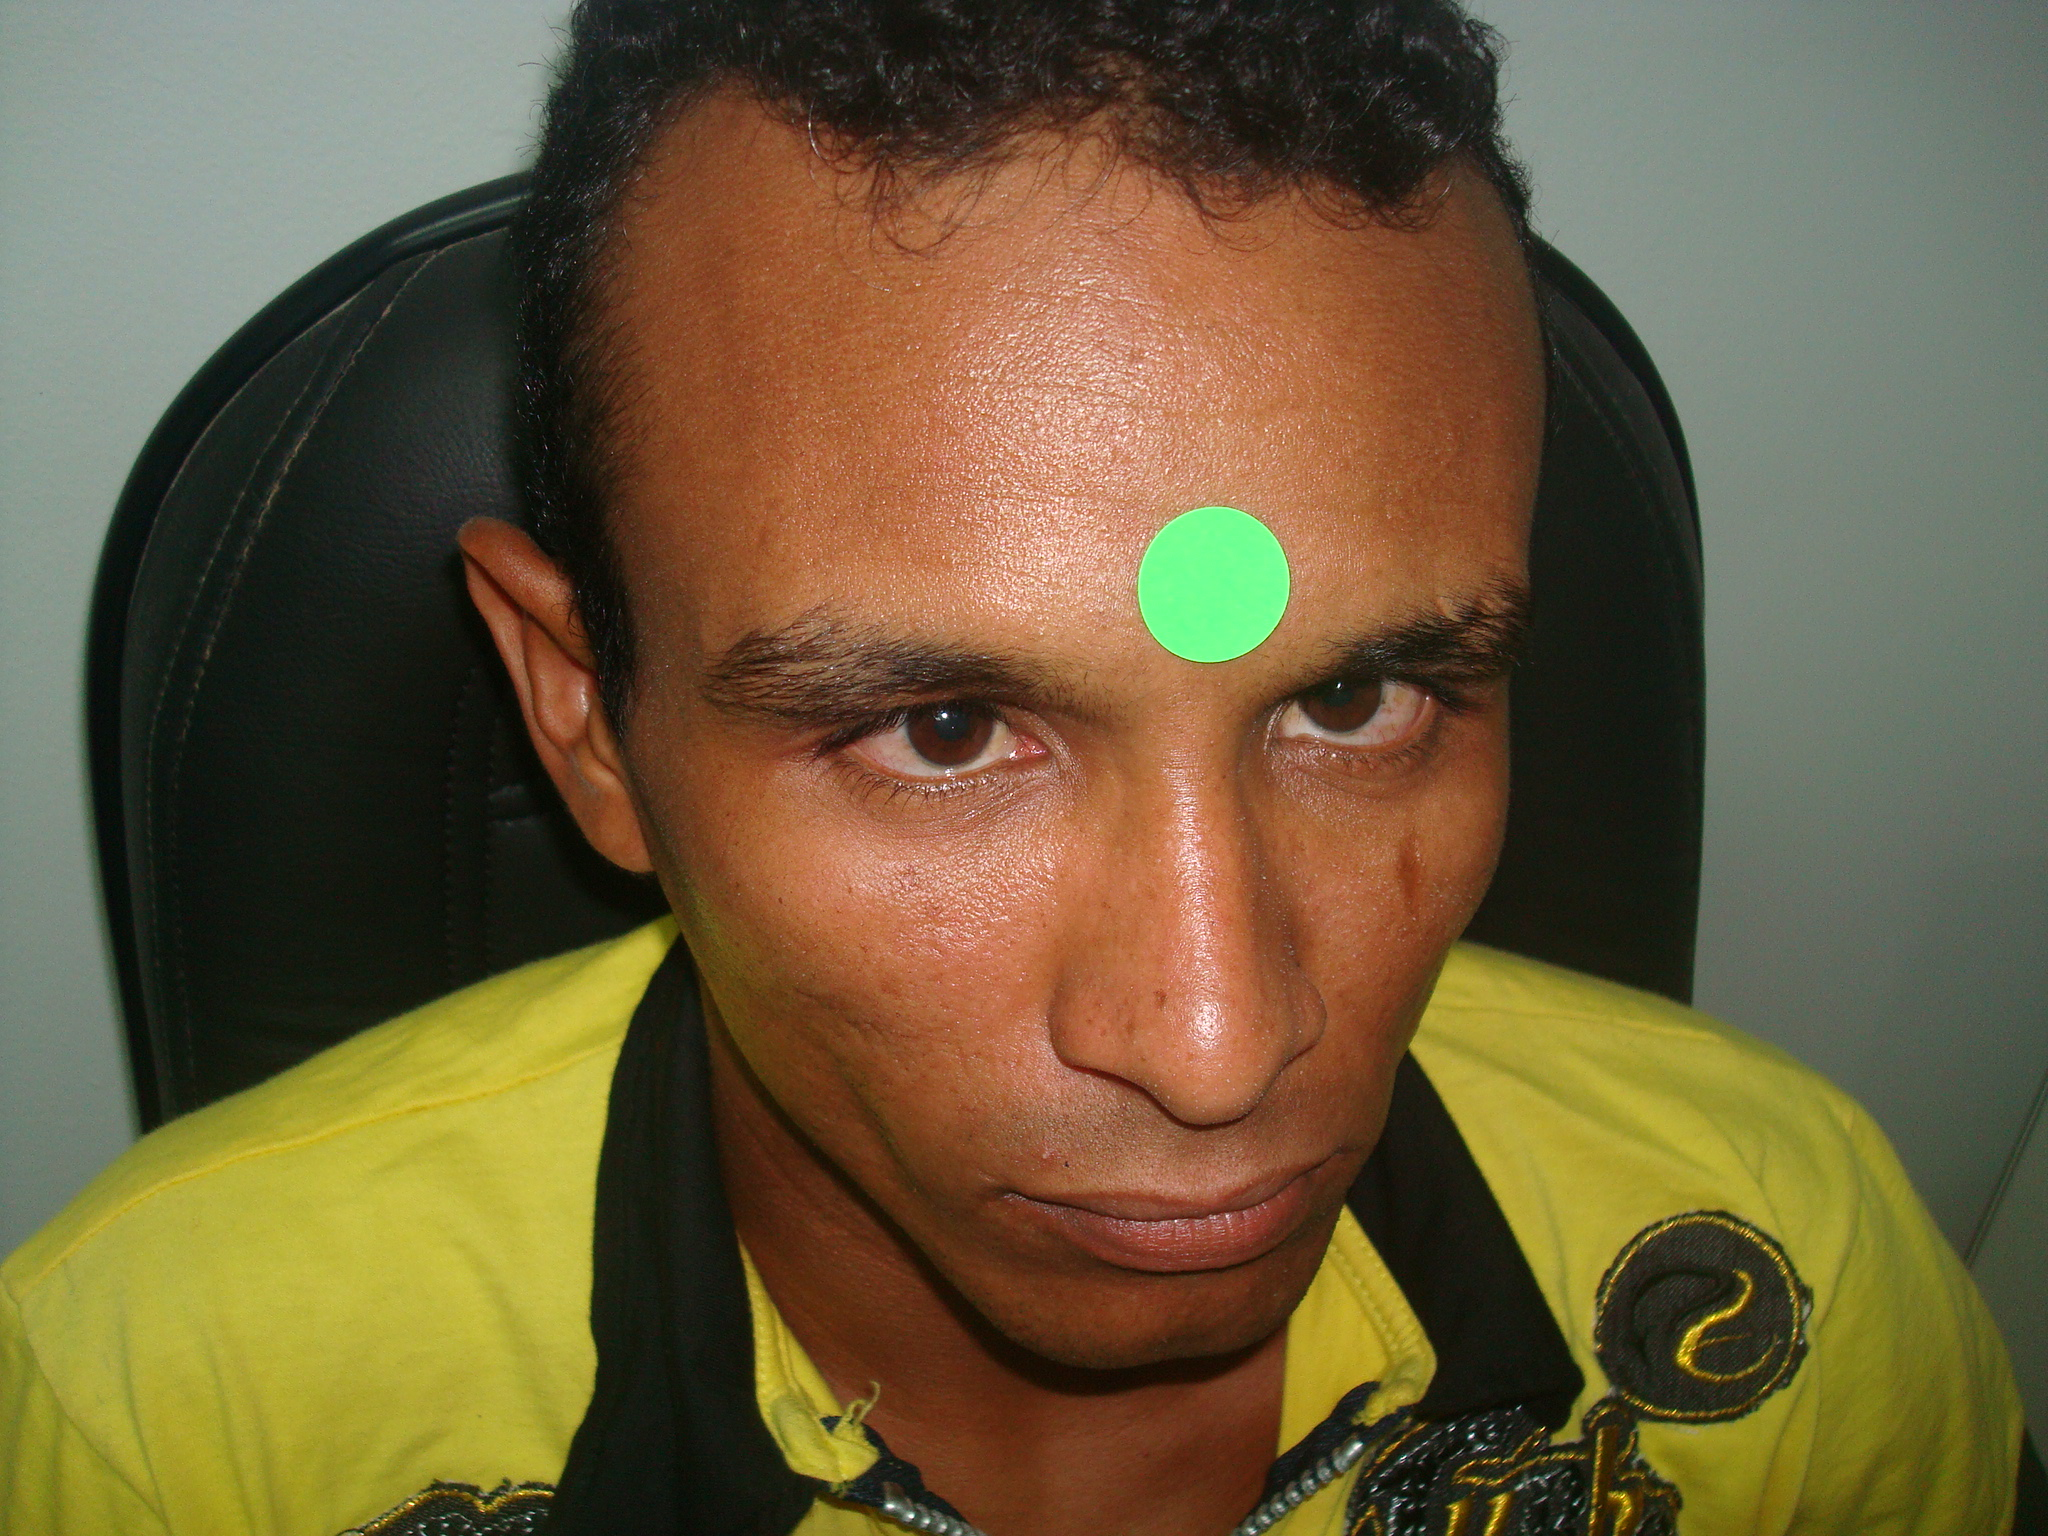flash: (940, 710, 951, 723), (1334, 679, 1345, 691)
limbo: (905, 686, 997, 762), (1297, 655, 1380, 731)
